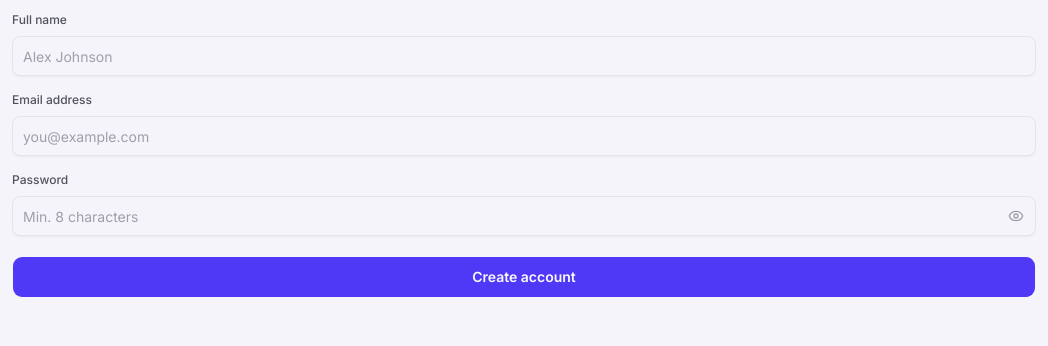
Test: Register › displays error if email is taken
Type "Test" into the field labelled "Full name" at (524, 56), box [12, 36, 1036, 76]
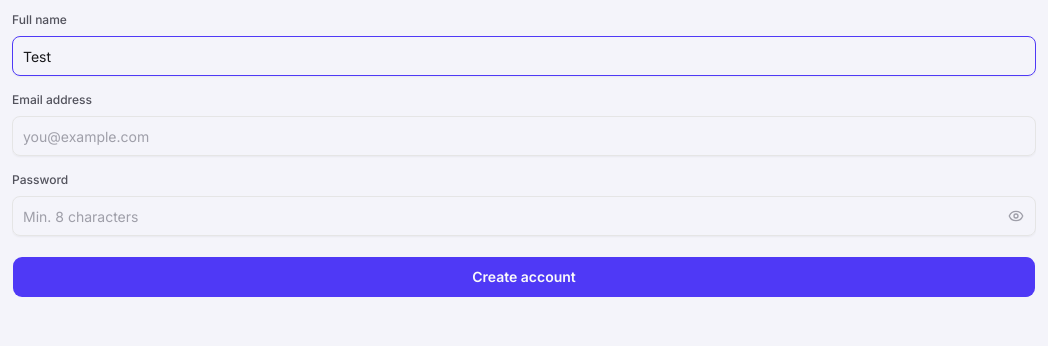
Type "test@gmail.com" into the field labelled "Email address" at (524, 136), box [12, 116, 1036, 156]
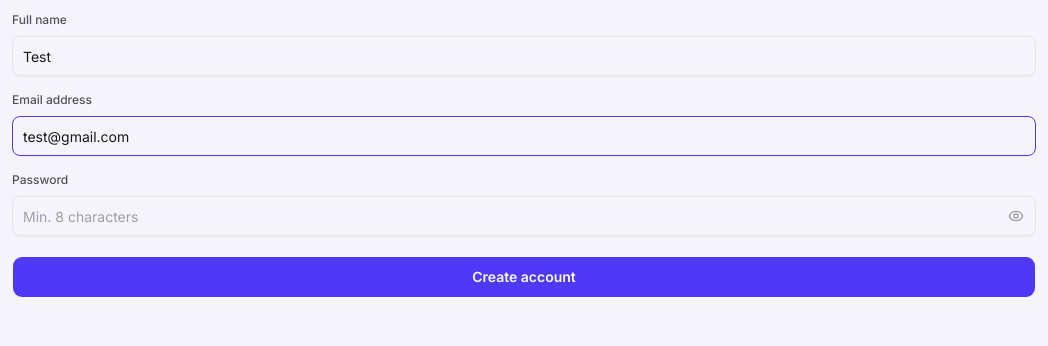
Type "password123" into the password field labelled "Password" at (524, 216), box [12, 196, 1036, 236]
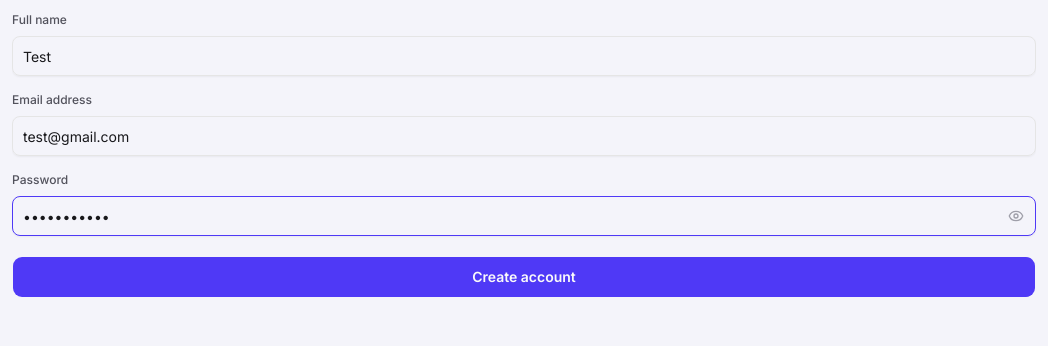
Click the button "Create account" at (524, 277), box [12, 256, 1036, 298]
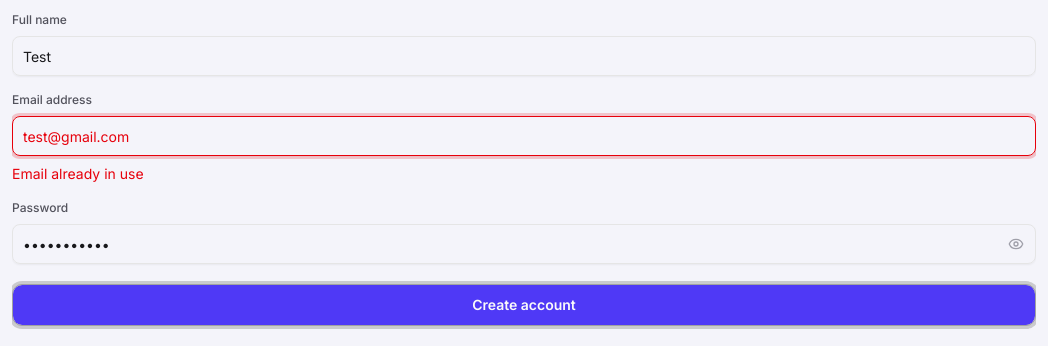
Now the text "Email already in use" is shown, box [12, 165, 144, 182]
